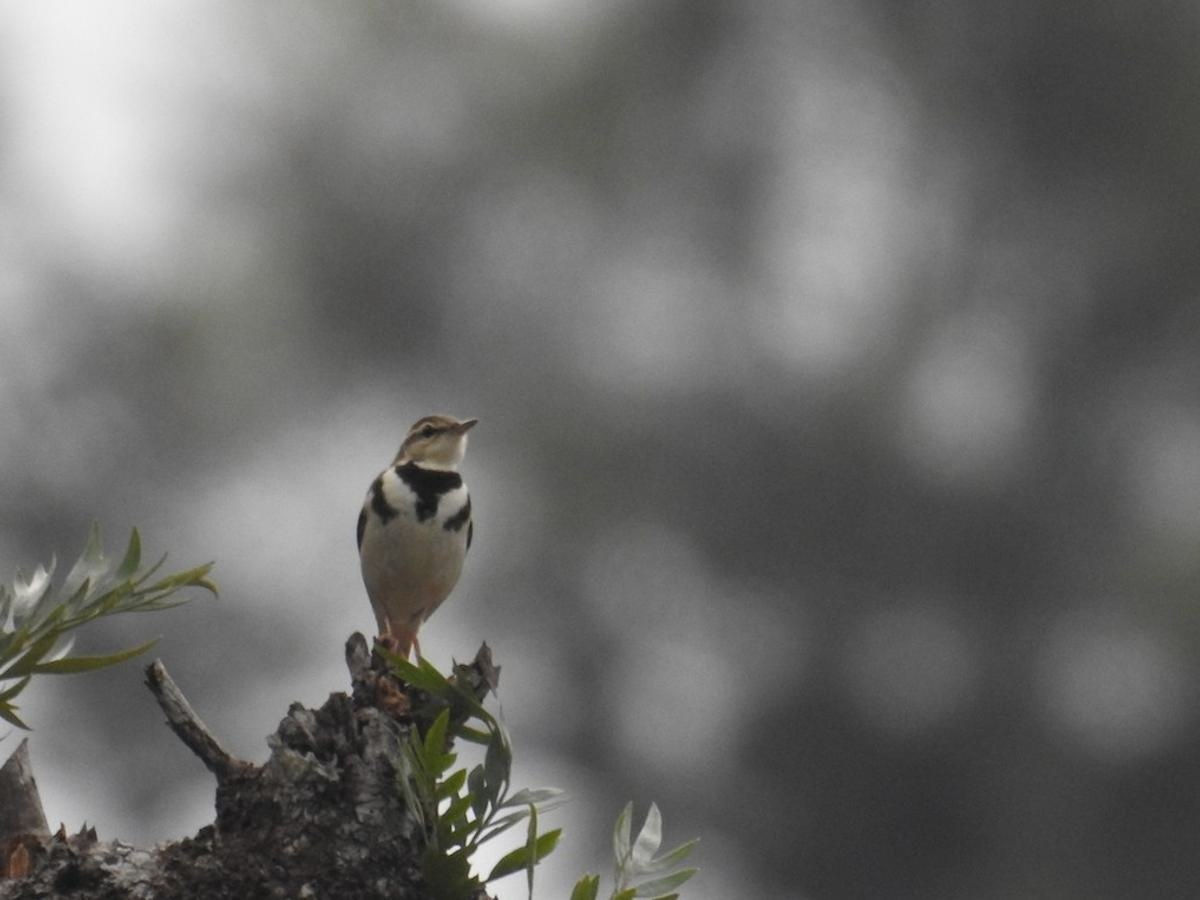wagtail: (356, 406, 498, 657)
